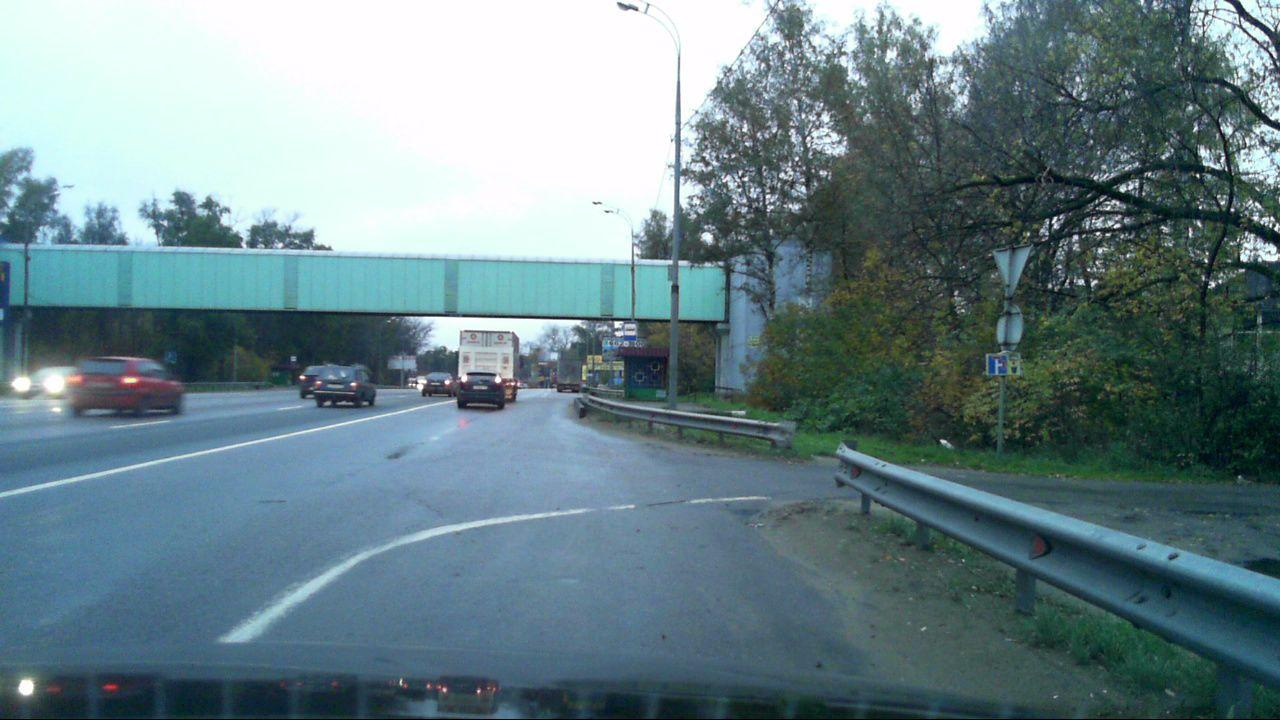5_16: (623, 320, 638, 341)
6_8_2: (988, 354, 1011, 376)
